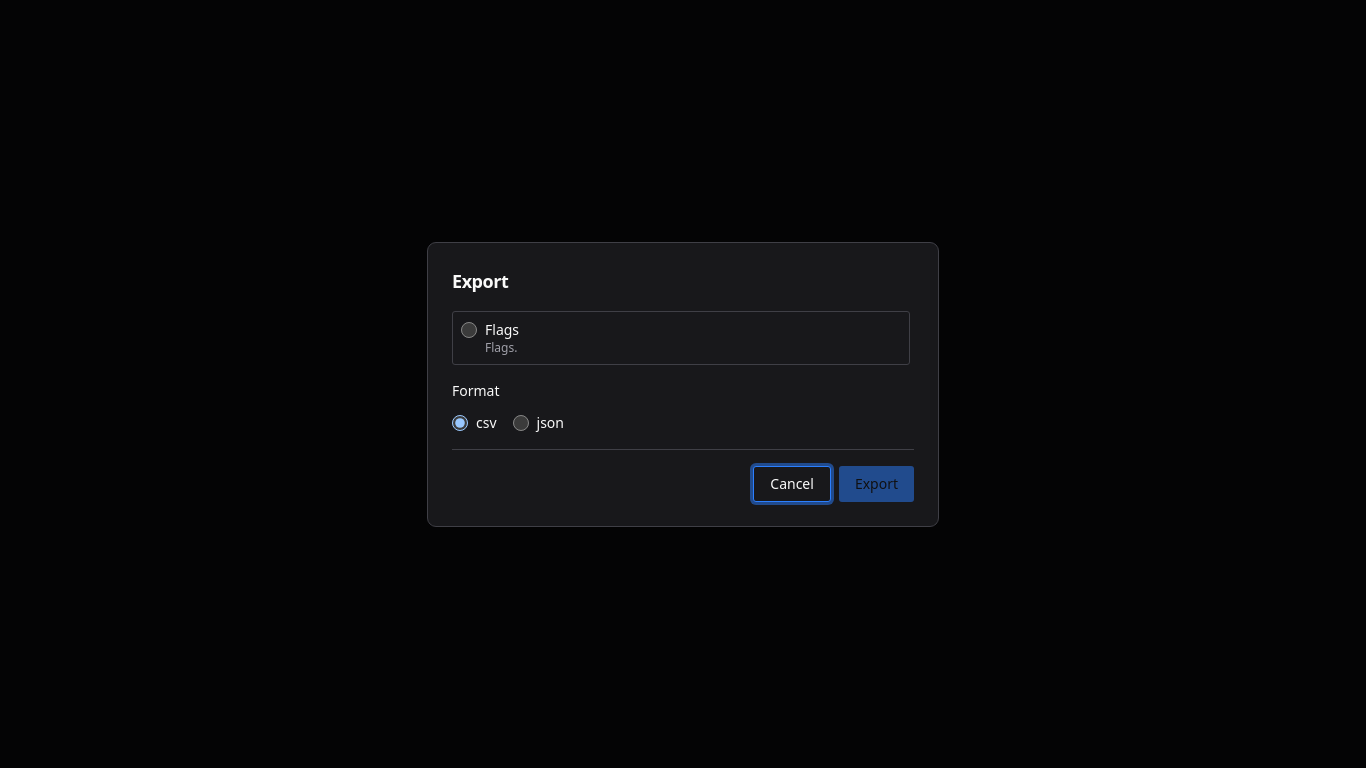
Test case: ExportDialog › group-scope filter controls · flags › surfaces Status/Red-teamer exactly where the template supports them
The width and height of the screenshot is (1366, 768).
Step 1. Click the radio button labelled "Flags Flags." → [469, 330], box [461,322,477,338]
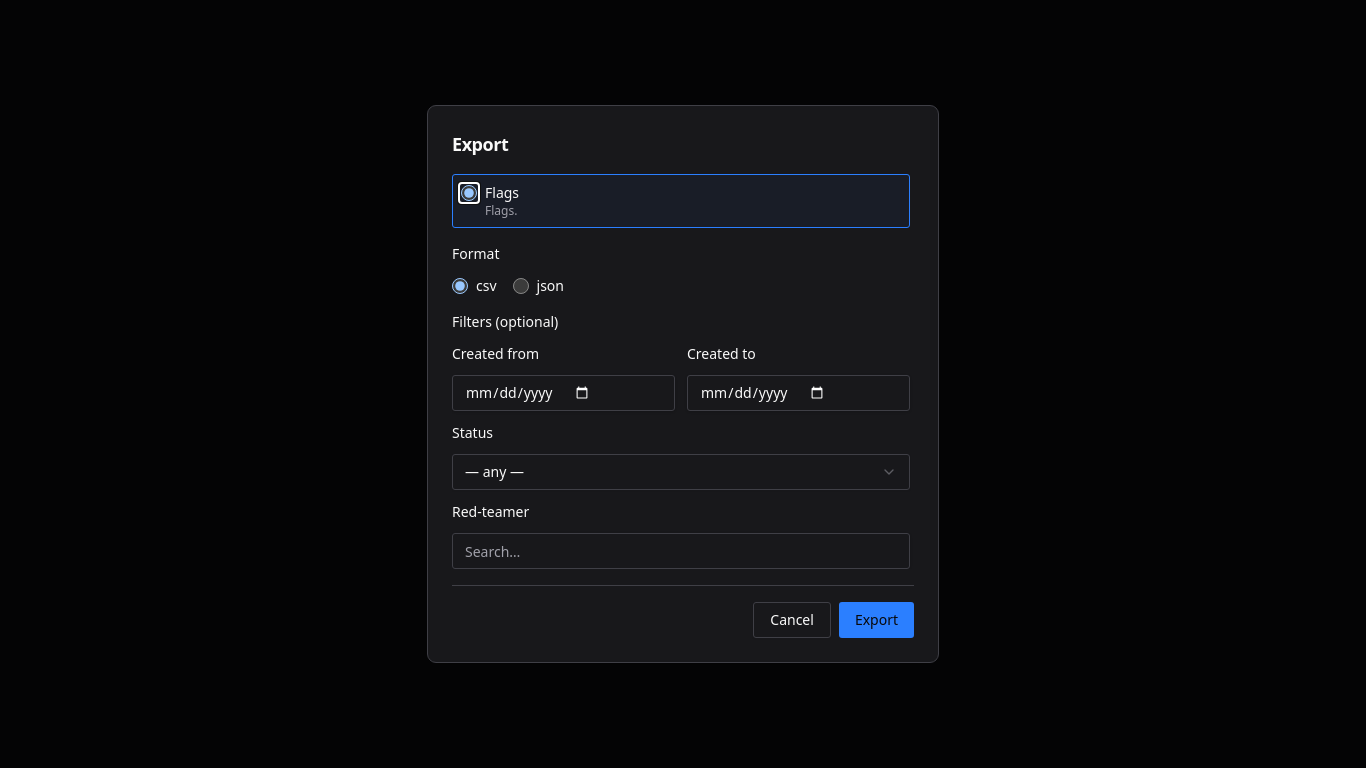
Expected: the dropdown labelled "Red-teamer" is shown, [452,533,910,569]
